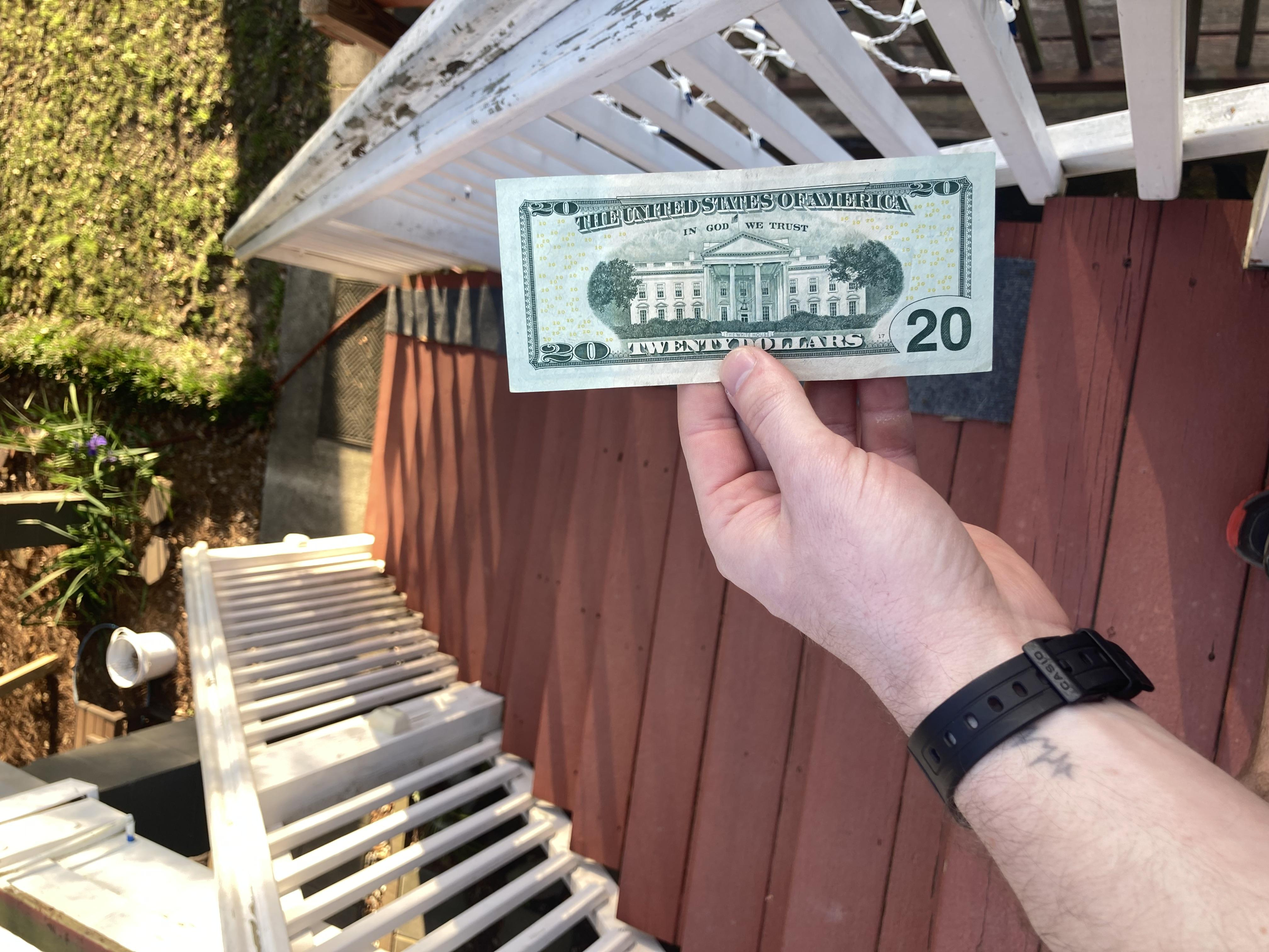twenty-back: (742, 369, 1070, 746)
